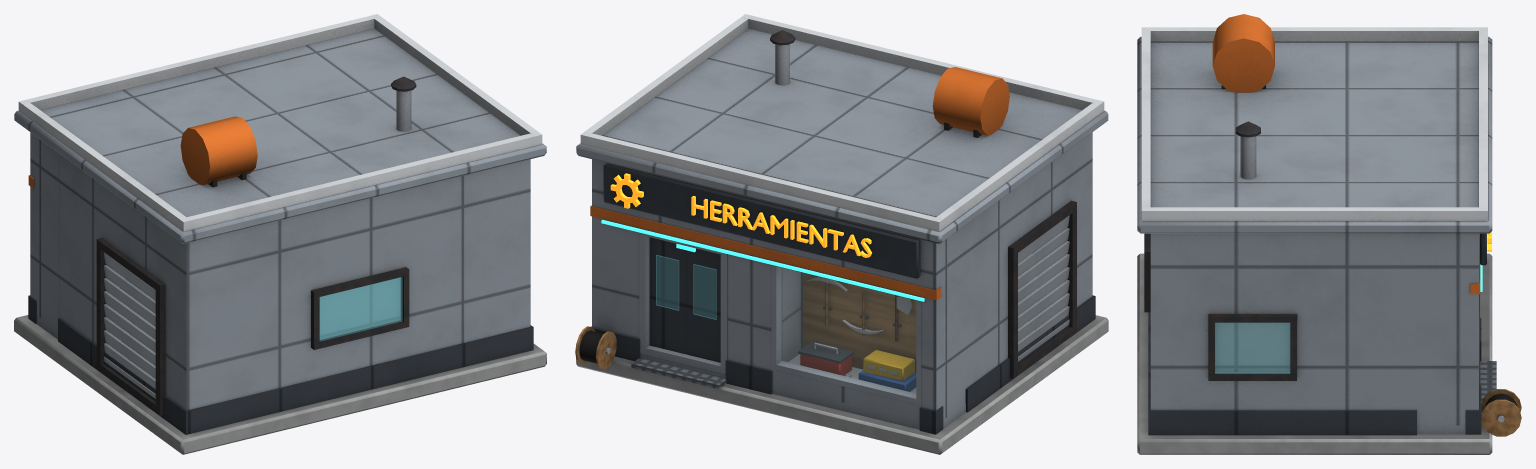
Rendered from tienda_herramientas.fbx.
3 views of the same model, side by side, from view 1: azimuth 30°, elevation 25°; view 2: azimuth 150°, elevation 25°; view 3: azimuth 270°, elevation 25° (orthographic). The views are drawn at different scales.
Parts seen in each view (by area): view 1: tienda_herramientas, tienda_herramientas_persiana, tienda_herramientas_cristal; view 2: tienda_herramientas, tienda_herramientas_escaparate_cristal, tienda_herramientas_persiana, tienda_herramientas_puerta_izq, tienda_herramientas_puerta_der, tienda_herramientas_naranja_neon, tienda_herramientas_cristal, tienda_herramientas_neon; view 3: tienda_herramientas, tienda_herramientas_cristal.
Part boxes in pixels (x1=…): tienda_herramientas: x1=14, y1=14, x2=546, y2=454; tienda_herramientas_persiana: x1=104, y1=252, x2=155, y2=398; tienda_herramientas_cristal: x1=319, y1=277, x2=402, y2=341; tienda_herramientas: x1=575, y1=14, x2=1108, y2=454; tienda_herramientas_escaparate_cristal: x1=779, y1=267, x2=915, y2=396; tienda_herramientas_persiana: x1=1018, y1=215, x2=1069, y2=361; tienda_herramientas_puerta_izq: x1=649, y1=237, x2=686, y2=354; tienda_herramientas_puerta_der: x1=687, y1=248, x2=720, y2=362; tienda_herramientas_naranja_neon: x1=610, y1=173, x2=871, y2=257; tienda_herramientas_cristal: x1=656, y1=255, x2=716, y2=319; tienda_herramientas_neon: x1=601, y1=219, x2=924, y2=301; tienda_herramientas: x1=1137, y1=14, x2=1521, y2=454; tienda_herramientas_cristal: x1=1215, y1=323, x2=1290, y2=373.
Bounding box in the file's own units: 10 × 7.16 × 8.66.
Materials: 4 (4 with a texture image).
